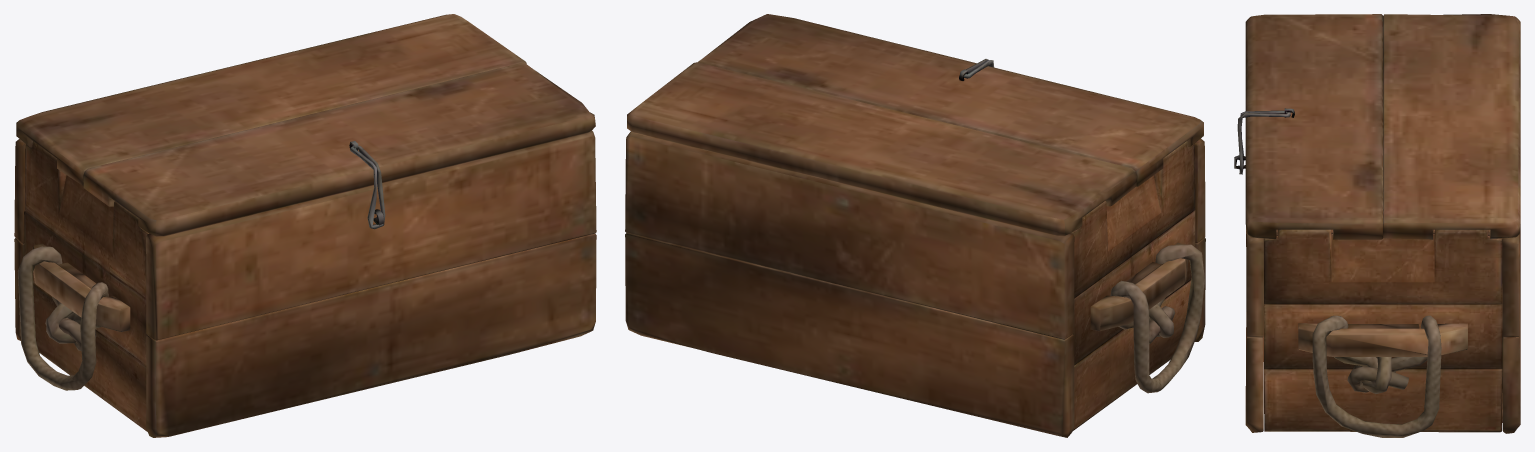
The model's file is wooden_crate_01.glb.
3 views of the same model, side by side, from view 1: azimuth 30°, elevation 25°; view 2: azimuth 150°, elevation 25°; view 3: azimuth 270°, elevation 25° (orthographic). The views are drawn at different scales.
Visible parts, largest first — view 1: wooden_crate_01_lid; view 2: wooden_crate_01_lid; view 3: wooden_crate_01_lid.
Boxes of the visible parts, left/top/right/bottom form: wooden_crate_01_lid: left=14, top=14, right=596, bottom=437; wooden_crate_01_lid: left=625, top=14, right=1205, bottom=437; wooden_crate_01_lid: left=1234, top=14, right=1520, bottom=437.
Bounding box in the file's own units: 0.8245 × 0.3495 × 0.4071.
1 material, 1 textured.
